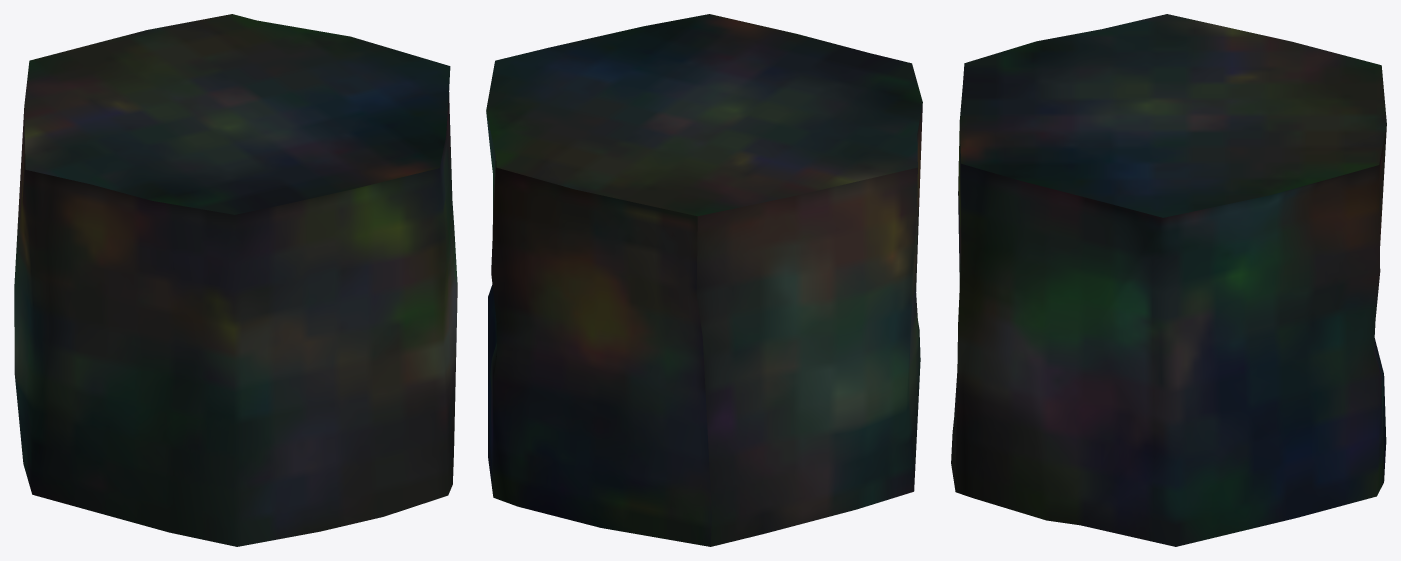
Rendered from objects_un_dlc1_crystal01_06.gltf.
The picture shows the model from 3 angles, left to right: view 1: azimuth 30°, elevation 25°; view 2: azimuth 150°, elevation 25°; view 3: azimuth 270°, elevation 25°; orthographic projection.
Visible parts, largest first — view 1: crystal_06_in_shape:objects_un_dlc1_crystal01_01; view 2: crystal_06_in_shape:objects_un_dlc1_crystal01_01; view 3: crystal_06_in_shape:objects_un_dlc1_crystal01_01.
Part boxes in pixels (left/top/right/bottom): crystal_06_in_shape:objects_un_dlc1_crystal01_01: left=14, top=14, right=457, bottom=546; crystal_06_in_shape:objects_un_dlc1_crystal01_01: left=486, top=14, right=922, bottom=546; crystal_06_in_shape:objects_un_dlc1_crystal01_01: left=951, top=14, right=1386, bottom=546.
Size of what is drawn, in the model's own units: 6.86 by 5.15 by 6.14.
1 material, 1 textured.
